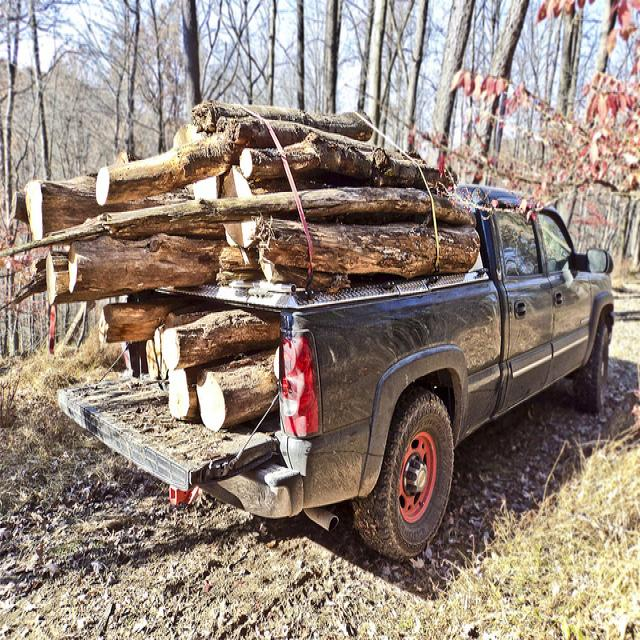Vehicle: (4, 100, 618, 566)
